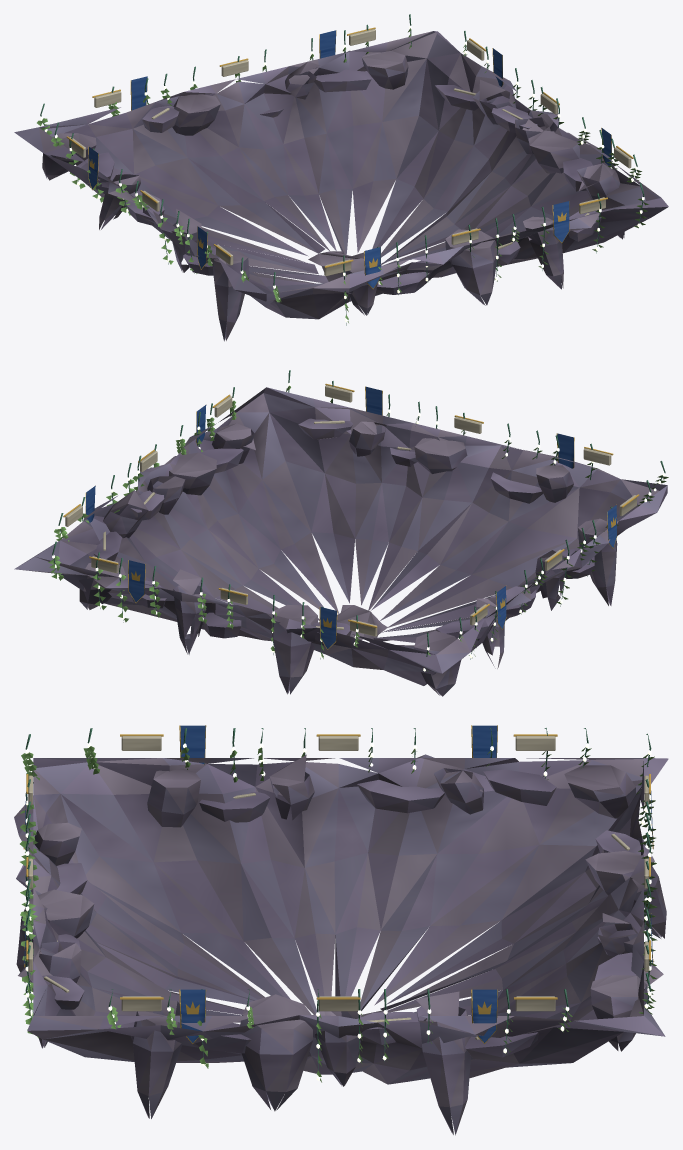
The model's file is crown-foundation-v4.glb.
The picture shows the model from 3 angles, top to bottom: view 1: azimuth 30°, elevation 25°; view 2: azimuth 150°, elevation 25°; view 3: azimuth 270°, elevation 25°; orthographic projection. The views are drawn at different scales.
Visible parts, largest first — view 1: crown-foundation-v4; view 2: crown-foundation-v4; view 3: crown-foundation-v4.
Part boxes in pixels (x1,y1,x2,y2): crown-foundation-v4: [14, 14, 668, 341]; crown-foundation-v4: [14, 370, 668, 696]; crown-foundation-v4: [14, 725, 668, 1135].
Size of the model in its own units: 27.5 by 8.42 by 26.94.
Materials: 7 (7 with a texture image).
